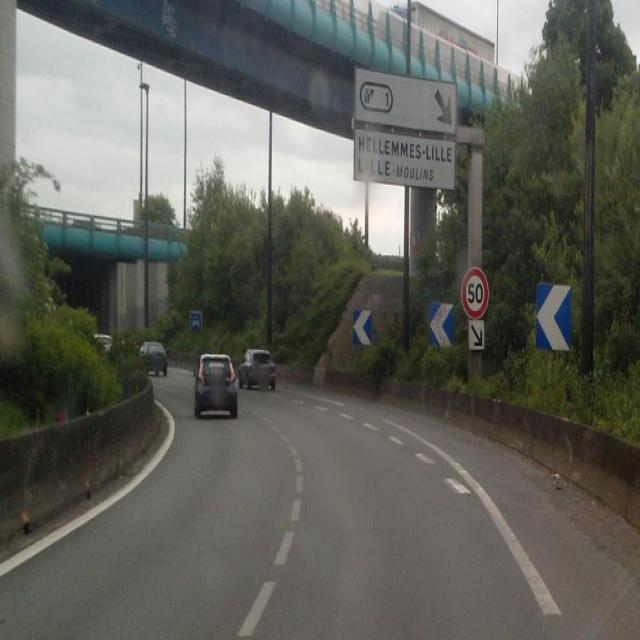speed_50: (461, 268, 489, 320)
